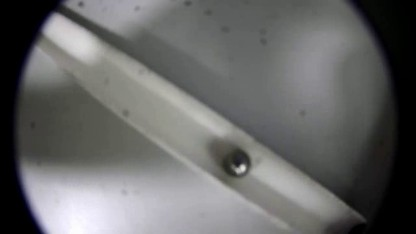gangzhu: (221, 148, 252, 178)
